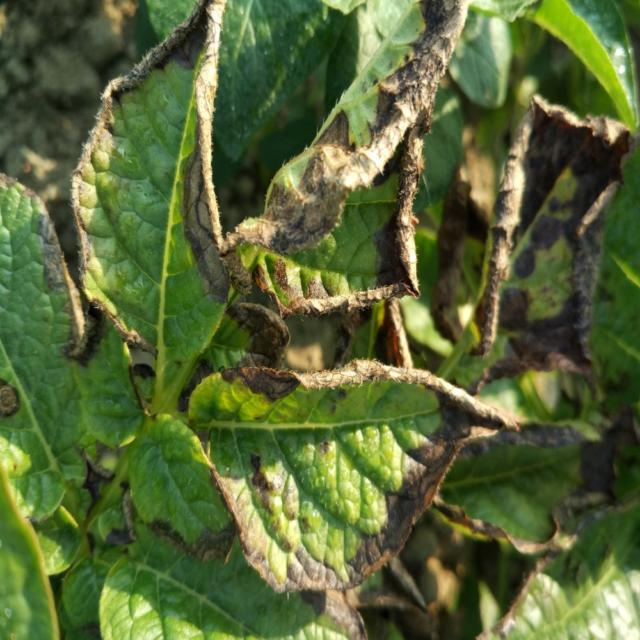Early_blight: (228, 1, 465, 372), (213, 360, 518, 596), (33, 1, 227, 369), (470, 93, 630, 399), (438, 405, 640, 553), (463, 417, 584, 463), (146, 517, 237, 565), (297, 591, 367, 640), (1, 378, 21, 424)
